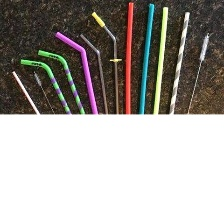drinking_straw: (52, 29, 100, 114), (161, 9, 193, 114), (120, 0, 138, 115), (8, 67, 42, 115)
